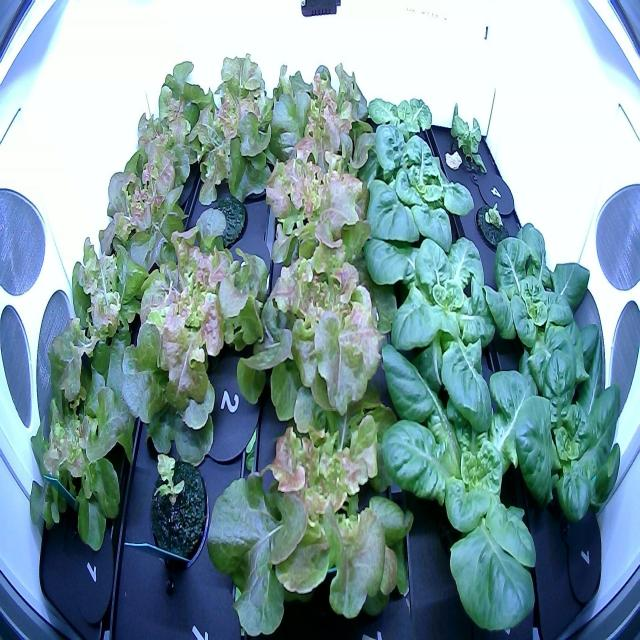young: (355, 336, 552, 635), (358, 199, 514, 438), (485, 320, 630, 538), (476, 203, 600, 401), (351, 122, 482, 266), (348, 75, 435, 160)
